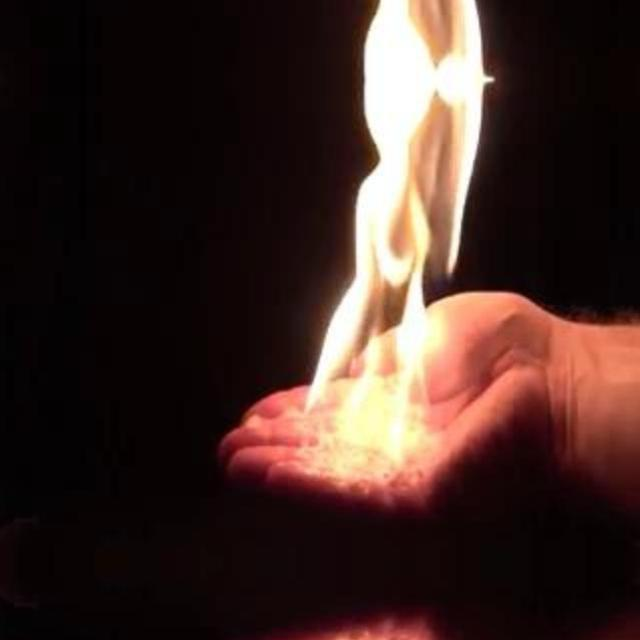smoke: (324, 81, 487, 438), (324, 0, 487, 77)
